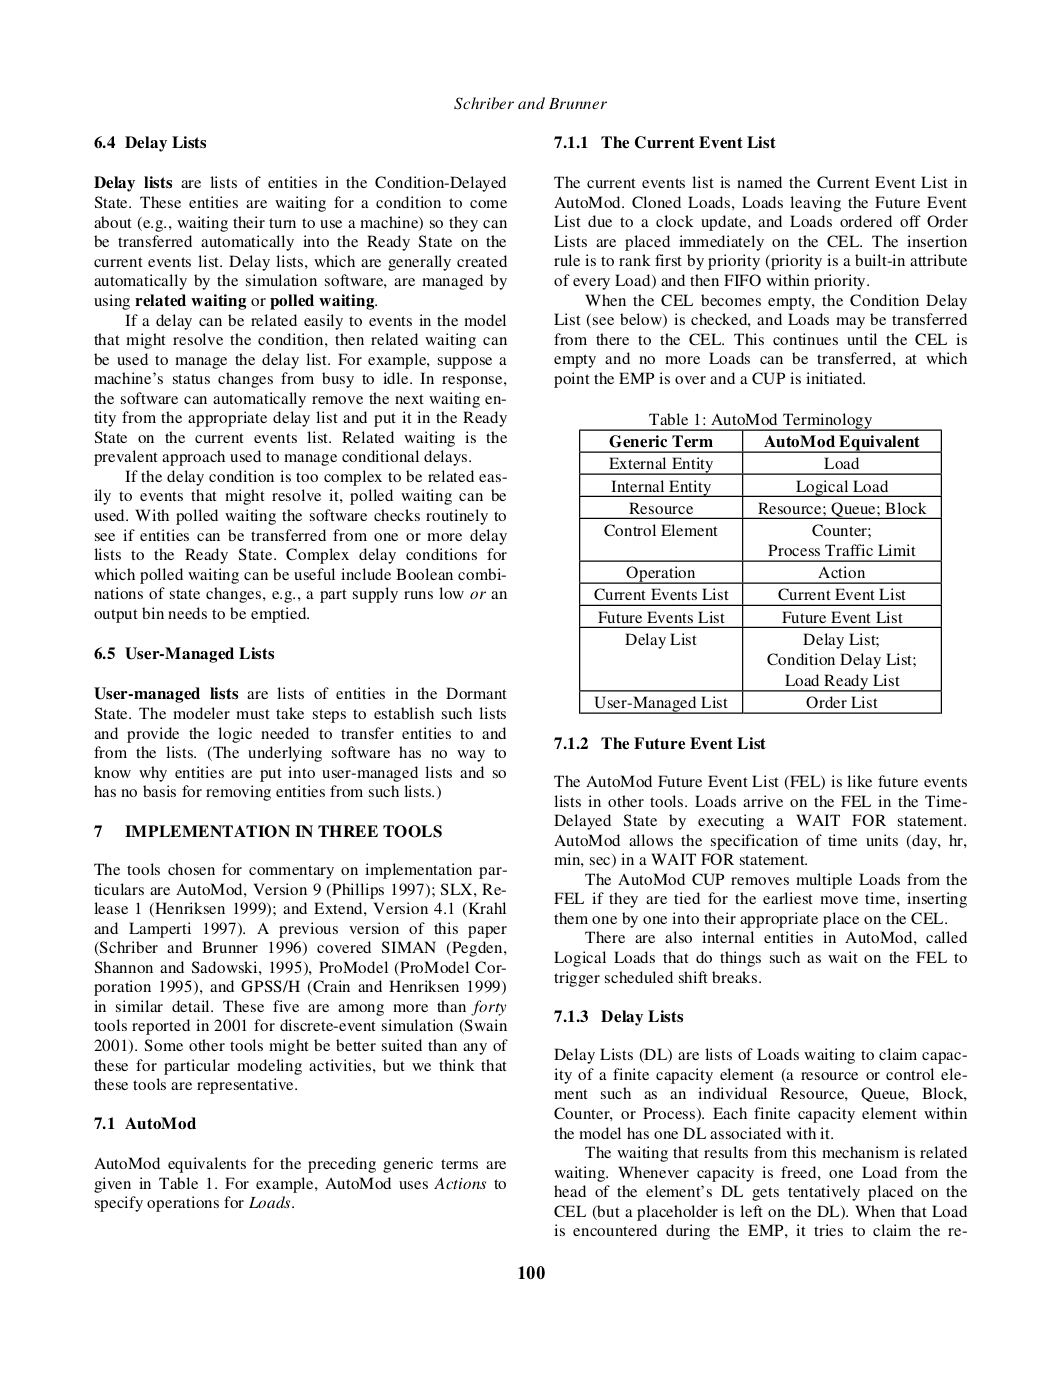Table: (580, 428, 941, 713)
